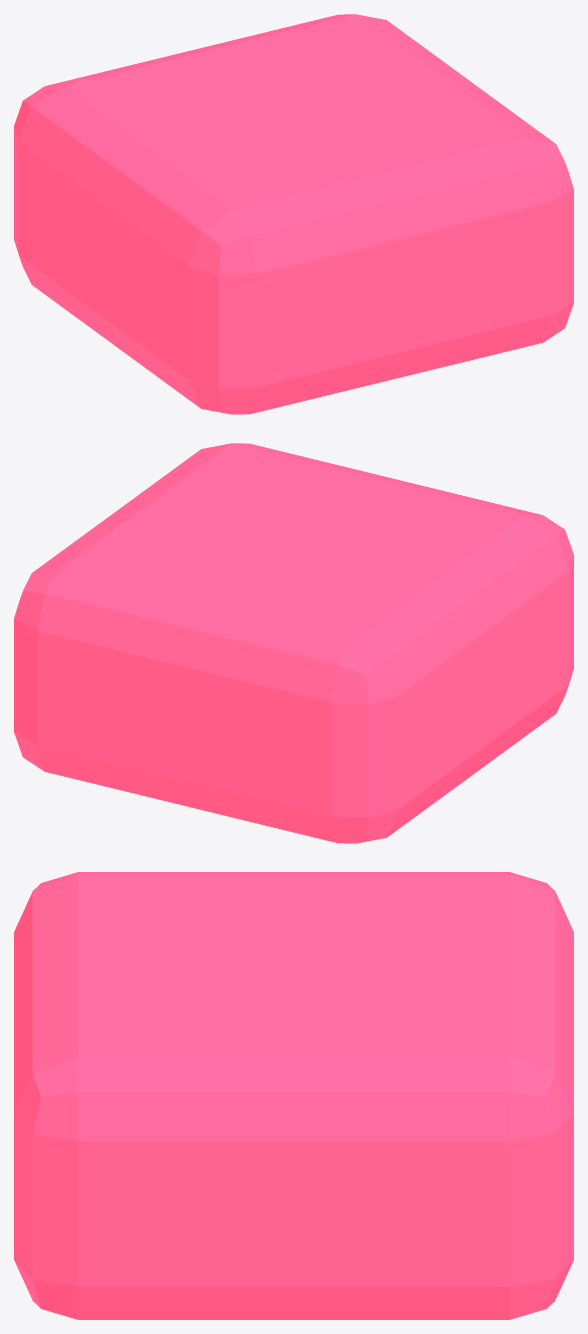
Rendered from SM_Lab_ReactorTerminal__Button_4.fbx.
The picture shows the model from 3 angles, top to bottom: view 1: azimuth 30°, elevation 25°; view 2: azimuth 150°, elevation 25°; view 3: azimuth 270°, elevation 25°; orthographic projection. The views are drawn at different scales.
Visible parts, largest first — view 1: SM_Lab_ReactorTerminal__Button_4; view 2: SM_Lab_ReactorTerminal__Button_4; view 3: SM_Lab_ReactorTerminal__Button_4.
Boxes of the visible parts, bbox=[...] form: SM_Lab_ReactorTerminal__Button_4: bbox=[14, 14, 573, 414]; SM_Lab_ReactorTerminal__Button_4: bbox=[14, 443, 573, 843]; SM_Lab_ReactorTerminal__Button_4: bbox=[14, 872, 573, 1319].
Size of the model in its own units: 3.5 by 3.5 by 1.8.
